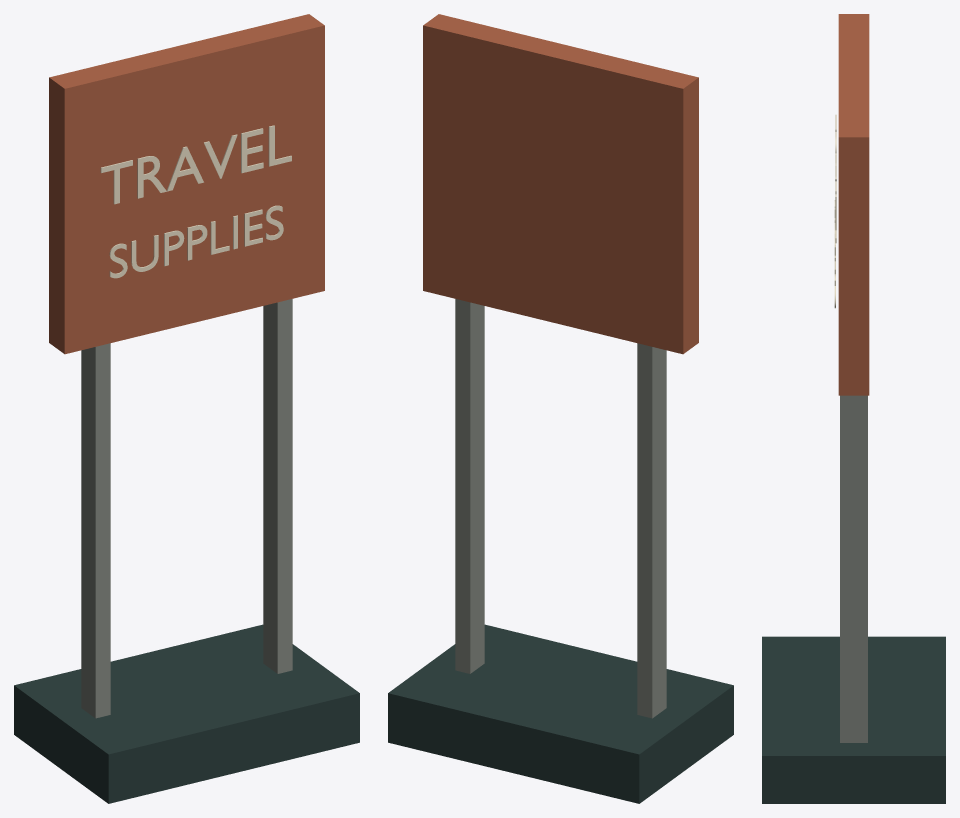
Rendered from entry_promo_stand.glb.
The picture shows the model from 3 angles, left to right: view 1: azimuth 30°, elevation 25°; view 2: azimuth 150°, elevation 25°; view 3: azimuth 270°, elevation 25°; orthographic projection. The views are drawn at different scales.
Visible parts, largest first — view 1: Promotion board, Sign base, Sign support, Sign support.001, TRAVEL, SUPPLIES; view 2: Promotion board, Sign base, Sign support, Sign support.001; view 3: Sign base, Promotion board, Sign support.001.
Part boxes in pixels (<box>): Promotion board: <box>49,14,324,354</box>; Sign base: <box>14,624,359,803</box>; Sign support: <box>81,343,110,718</box>; Sign support.001: <box>263,299,292,673</box>; TRAVEL: <box>100,125,291,204</box>; SUPPLIES: <box>109,205,283,278</box>; Promotion board: <box>423,14,698,354</box>; Sign base: <box>388,624,733,803</box>; Sign support: <box>637,343,666,718</box>; Sign support.001: <box>455,299,484,673</box>; Sign base: <box>762,636,945,803</box>; Promotion board: <box>838,14,869,395</box>; Sign support.001: <box>840,395,867,742</box>.
Bounding box in the file's own units: 0.451 × 1.14 × 0.284.
